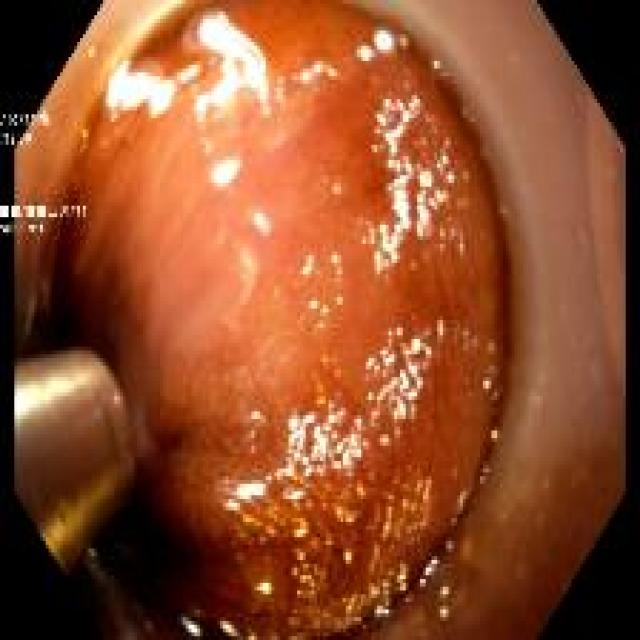color misalignment: (2, 203, 86, 218), (1, 111, 49, 129), (1, 223, 44, 235), (0, 132, 32, 145)
contrast: (98, 481, 197, 616), (45, 245, 120, 373)
instrument: (14, 352, 136, 577)
specularity: (375, 98, 422, 277), (196, 15, 269, 123), (366, 329, 432, 430), (277, 405, 361, 482), (108, 62, 175, 116), (382, 479, 433, 543), (416, 166, 449, 240), (15, 380, 68, 419), (292, 550, 327, 602), (342, 597, 367, 628), (242, 518, 276, 539), (302, 65, 337, 83), (213, 162, 239, 186), (334, 507, 359, 528), (434, 140, 450, 171), (369, 584, 389, 607), (238, 486, 265, 502), (359, 221, 377, 245), (178, 67, 199, 83), (332, 255, 342, 288), (375, 32, 392, 51), (255, 216, 272, 233), (183, 621, 201, 636), (221, 624, 237, 639), (284, 493, 305, 504), (399, 566, 407, 593), (359, 47, 373, 61), (277, 78, 284, 105), (426, 561, 437, 578), (303, 258, 312, 276), (294, 530, 309, 540), (379, 436, 391, 448), (203, 139, 212, 153), (255, 586, 270, 594), (376, 608, 389, 617), (226, 504, 240, 512), (356, 485, 364, 499), (345, 553, 353, 566), (87, 46, 95, 58), (447, 173, 455, 184), (483, 379, 490, 391), (439, 321, 444, 337), (253, 414, 261, 423), (442, 590, 448, 599), (338, 297, 344, 306), (322, 308, 328, 317), (310, 303, 317, 310), (441, 612, 447, 619), (420, 582, 426, 588), (434, 62, 440, 68), (320, 324, 324, 329)
